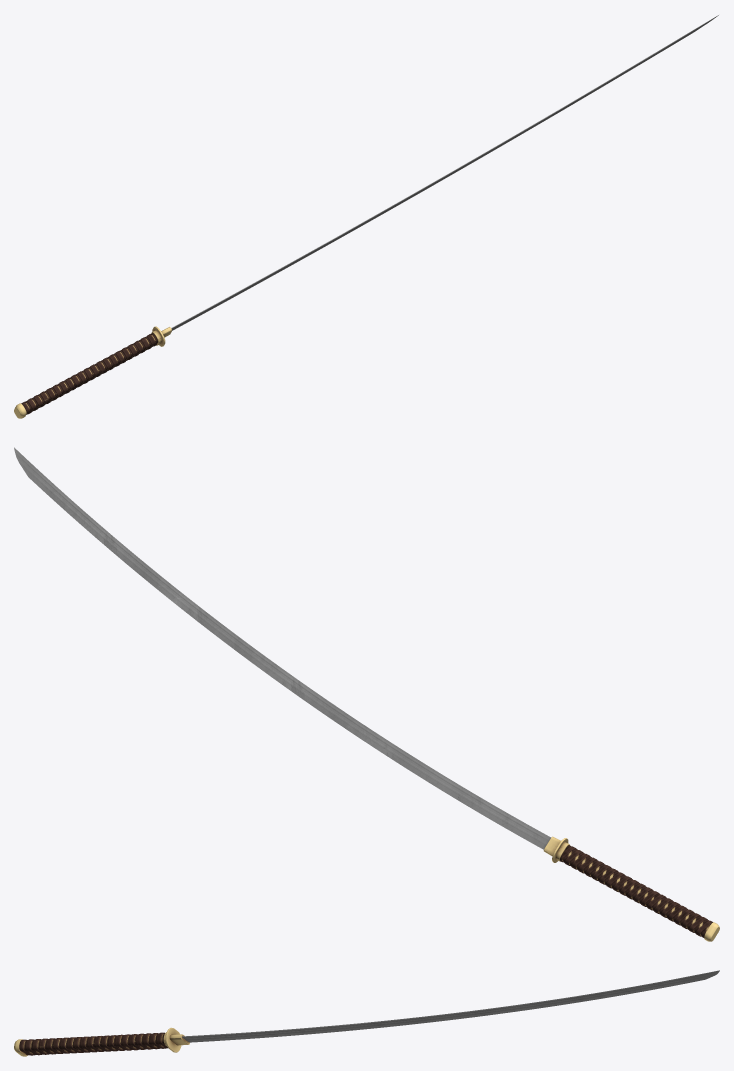
The model's file is katana.glb.
3 renders of one model, top to bottom at view 1: azimuth 30°, elevation 25°; view 2: azimuth 150°, elevation 25°; view 3: azimuth 330°, elevation 25°, orthographic. The views are drawn at different scales.
Parts seen in each view (by area): view 1: pCube46; view 2: pCube46; view 3: pCube46.
Boxes of the visible parts, x1=… form: pCube46: x1=14, y1=15, x2=718, y2=418; pCube46: x1=14, y1=447, x2=719, y2=941; pCube46: x1=14, y1=970, x2=719, y2=1056.
Bounding box in the file's own units: 0.8321 × 0.3125 × 0.0798.
1 material, 1 textured.
